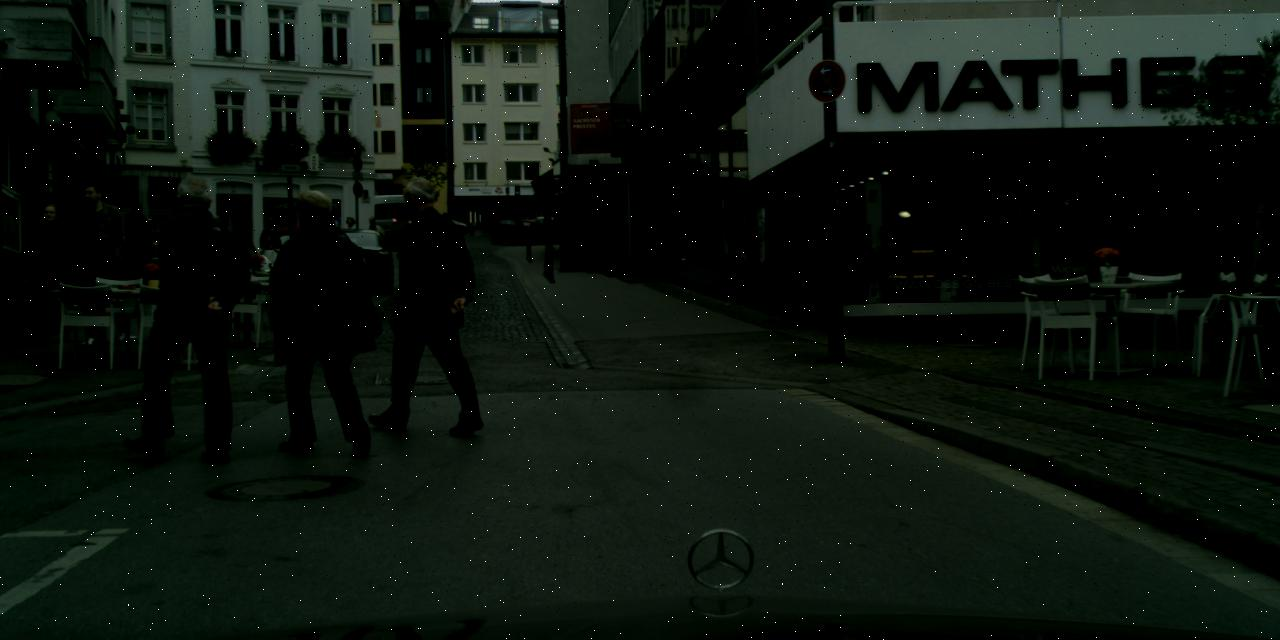ped: (130, 176, 245, 458), (266, 189, 373, 453), (370, 175, 476, 432), (66, 181, 132, 342), (25, 202, 81, 339), (122, 201, 154, 280), (256, 215, 288, 293), (227, 222, 254, 291), (340, 216, 360, 265), (363, 217, 383, 264), (541, 210, 557, 248), (550, 208, 564, 243)
